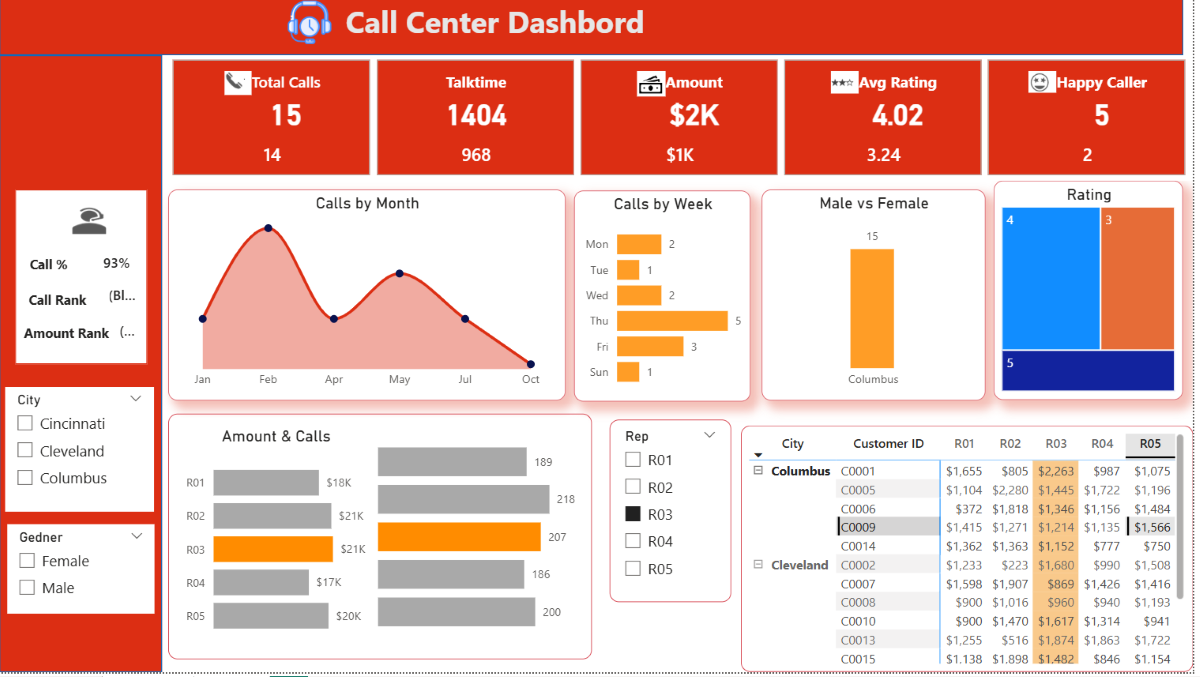

The dashboard page shown, as its layout file describes it:
{"tool":"powerbi","page":{"name":"Summery","canvas":[1280,720],"ordinal":0},"visuals":[{"type":"shape","box":[9.3,0,1260.5,62.8],"z":0},{"type":"shape","box":[10.8,73.6,168.5,119.7],"z":0,"group":"g1"},{"type":"shape","box":[12.8,206.1,170,120],"z":0,"group":"g2"},{"type":"shape","box":[14.5,334.1,170.4,130.2],"z":0,"group":"g3"},{"type":"shape","box":[194.2,396.5,475.6,316.3],"z":0,"group":"g6"},{"type":"shape","box":[15.6,472.1,167,119.8],"z":0,"group":"g4"},{"type":"shape","box":[18.8,600,170,120],"z":0,"group":"g5"},{"type":"textbox","box":[373.2,0,528.3,63.1],"z":1000},{"type":"clusteredBarChart","title":"Amount & Calls","fields":{"Category":["calls.Representative"],"Y":["_measures.Amount"]},"box":[205.5,401.3,218.7,311.5],"z":1000,"group":"g6"},{"type":"group","id":"g1","title":"Group 1","box":[0,73,179.3,120.3],"z":2000},{"type":"clusteredBarChart","title":"Calls","fields":{"Category":["calls.Representative"],"Y":["_measures.Total Calls"]},"box":[424.4,433.6,237.3,258],"z":2000,"group":"g6"},{"type":"cardVisual","fields":{"Data":["_measures.Total Calls"]},"box":[0,73,177.7,75.7],"z":3000,"group":"g1"},{"type":"group","id":"g2","title":"Group 1","box":[11.8,206.1,171,120],"z":3000},{"type":"cardVisual","fields":{"Data":["_measures.Talktime"]},"box":[11.8,208.3,166.3,84.9],"z":3000,"group":"g2"},{"type":"cardVisual","fields":{"Data":["_measures.Amount"]},"box":[14.2,342.2,166.3,76.7],"z":3000,"group":"g3"},{"type":"cardVisual","fields":{"Data":["_measures.Average Rating"]},"box":[13.5,477.8,167.7,80.1],"z":3000,"group":"g4"},{"type":"cardVisual","fields":{"Data":["_measures.Happy Caller"]},"box":[15.9,610.5,169.8,70.9],"z":3000,"group":"g5"},{"type":"group","id":"g3","title":"Group 1","box":[12.8,334.1,172.1,130.2],"z":4000},{"type":"card","fields":{"Values":["_measures.repcalls"]},"box":[8.4,152.9,169.3,25.2],"z":5000,"group":"g1"},{"type":"card","fields":{"Values":["_measures.RepAvgTalktime"]},"box":[12.5,290.9,170,30],"z":5000,"group":"g2"},{"type":"card","fields":{"Values":["_measures.repAmount"]},"box":[12.8,421.9,169.8,32.6],"z":5000,"group":"g3"},{"type":"group","id":"g4","title":"Group 1","box":[12.8,472.1,169.8,119.8],"z":5000},{"type":"card","fields":{"Values":["_measures.RepAvgRate"]},"box":[12.8,554.7,167.9,30.2],"z":5000,"group":"g4"},{"type":"card","fields":{"Values":["_measures.RepJappy Caller"]},"box":[27.9,690.7,158.1,29.1],"z":5000,"group":"g5"},{"type":"group","id":"g5","title":"Group 1","box":[15.9,600,172.9,120],"z":6000},{"type":"lineChart","title":" Calls by Month","fields":{"Y":["_measures.Total Calls"],"Category":["Calender.Month"]},"box":[191.9,76.7,404.7,283.7],"z":7000},{"type":"clusteredBarChart","title":" Calls by Week","fields":{"Category":["Calender.Weekname"],"Y":["_measures.Total Calls"]},"box":[603.5,76.8,209.2,282.8],"z":8000},{"type":"slicer","fields":{"Values":["Rep Table.Value"]},"box":[683.7,369.8,129.1,188.4],"z":9000},{"type":"columnChart","title":"Male vs Female","fields":{"Category":["customers.City"],"Y":["_measures.Total Calls"],"Series":["customers.Gedner"]},"box":[822.1,76.7,237.2,264],"z":10000},{"type":"treemap","title":"Rating","fields":{"Group":["calls.Rating rounded"],"Values":["_measures.Total Calls"]},"box":[1067.4,76.7,201.2,264],"z":11000},{"type":"group","id":"g6","title":"Group 1","box":[194.2,396.5,475.6,316.3],"z":12000},{"type":"pivotTable","fields":{"Columns":["calls.Representative"],"Rows":["customers.City","calls.Customer ID"],"Values":["_measures.Amount"]},"box":[820.9,380.2,447.7,327.9],"z":13000},{"type":"image","box":[708.1,565.1,64,40.7],"z":14000},{"type":"card","fields":{"Values":["_measures.call %"]},"box":[754.4,606.7,58.9,28.9],"z":15000},{"type":"textbox","box":[683.3,610,64.4,30],"z":16000},{"type":"card","fields":{"Values":["_measures.Call Rank"]},"box":[771.1,640,41.1,28.9],"z":17000},{"type":"textbox","box":[670,645.6,91.1,30],"z":18000},{"type":"textbox","box":[670,676.7,122.2,31.1],"z":19000},{"type":"card","fields":{"Values":["_measures.AmountRank"]},"box":[777.8,677.8,28.9,30],"z":20000},{"type":"image","box":[308.1,3.2,65.2,55.7],"z":21000}]}

Visuals, with their boxes in screenshot pixels (x1, y1, x2, y2), scaled from the page's 1280x720 canvas onto the 1200x677 screenshot:
shape: 9,0,1190,59
shape: 10,69,168,182
shape: 12,194,171,307
shape: 14,314,173,437
shape: 182,373,628,670
shape: 15,444,171,557
shape: 18,564,177,676
textbox: 350,0,845,59
"Amount & Calls" clusteredBarChart: 193,377,398,670
"Group 1" group: 0,69,168,182
"Calls" clusteredBarChart: 398,408,620,650
cardVisual - _measures.Total Calls: 0,69,167,140
"Group 1" group: 11,194,171,307
cardVisual - _measures.Talktime: 11,196,167,276
cardVisual - _measures.Amount: 13,322,169,394
cardVisual - _measures.Average Rating: 13,449,170,525
cardVisual - _measures.Happy Caller: 15,574,174,641
"Group 1" group: 12,314,173,437
card - _measures.repcalls: 8,144,167,167
card - _measures.RepAvgTalktime: 12,274,171,302
card - _measures.repAmount: 12,397,171,427
"Group 1" group: 12,444,171,557
card - _measures.RepAvgRate: 12,522,169,550
card - _measures.RepJappy Caller: 26,649,174,676
"Group 1" group: 15,564,177,676
" Calls by Month" lineChart: 180,72,559,339
" Calls by Week" clusteredBarChart: 566,72,762,338
slicer - Rep Table.Value: 641,348,762,525
"Male vs Female" columnChart: 771,72,993,320
"Rating" treemap: 1001,72,1189,320
"Group 1" group: 182,373,628,670
pivotTable - calls.Representative x customers.City: 770,357,1189,666
image: 664,531,724,570
card - _measures.call %: 707,570,762,598
textbox: 641,574,701,602
card - _measures.Call Rank: 723,602,761,629
textbox: 628,607,714,635
textbox: 628,636,743,666
card - _measures.AmountRank: 729,637,756,666
image: 289,3,350,55
